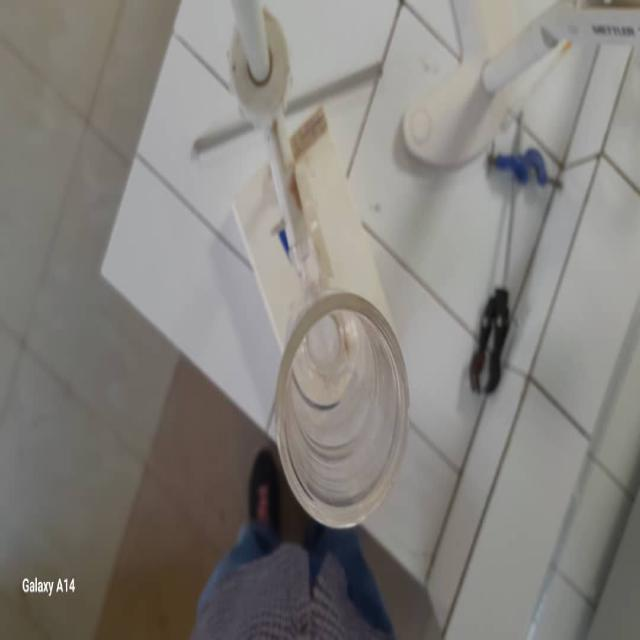Column Chromatography: (261, 216, 411, 538)
